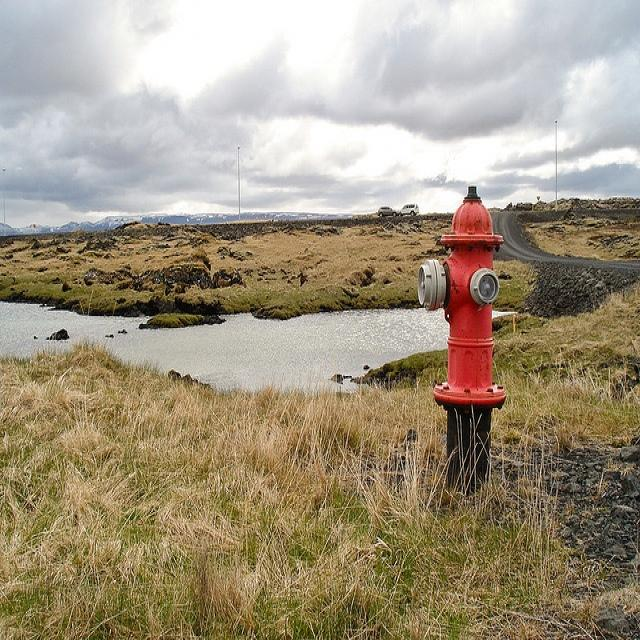car: (397, 201, 418, 216), (375, 203, 399, 216)
fire_hydrant: (416, 182, 505, 490)
